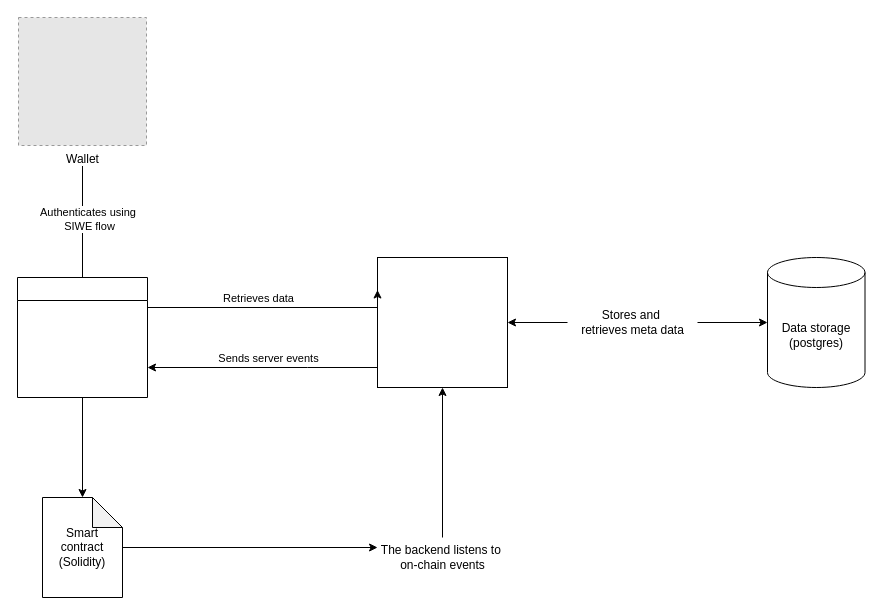
The diagram is 883 pixels wide and 615 high, and some of its shapes have lost their labels. Grey dashed boxes stand in for pictures. Each missing label, with the centre of its shape:
"Backend (nestJS)" belongs at point (442, 322).
"Web app (React)" belongs at point (82, 337).
